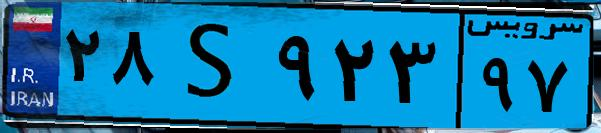2: (330, 28, 385, 110), (57, 26, 110, 100)
3: (385, 28, 445, 110)
7: (525, 38, 570, 115)
8: (110, 28, 158, 98)
9: (270, 28, 330, 110), (475, 38, 525, 113)
S: (158, 12, 270, 120)
